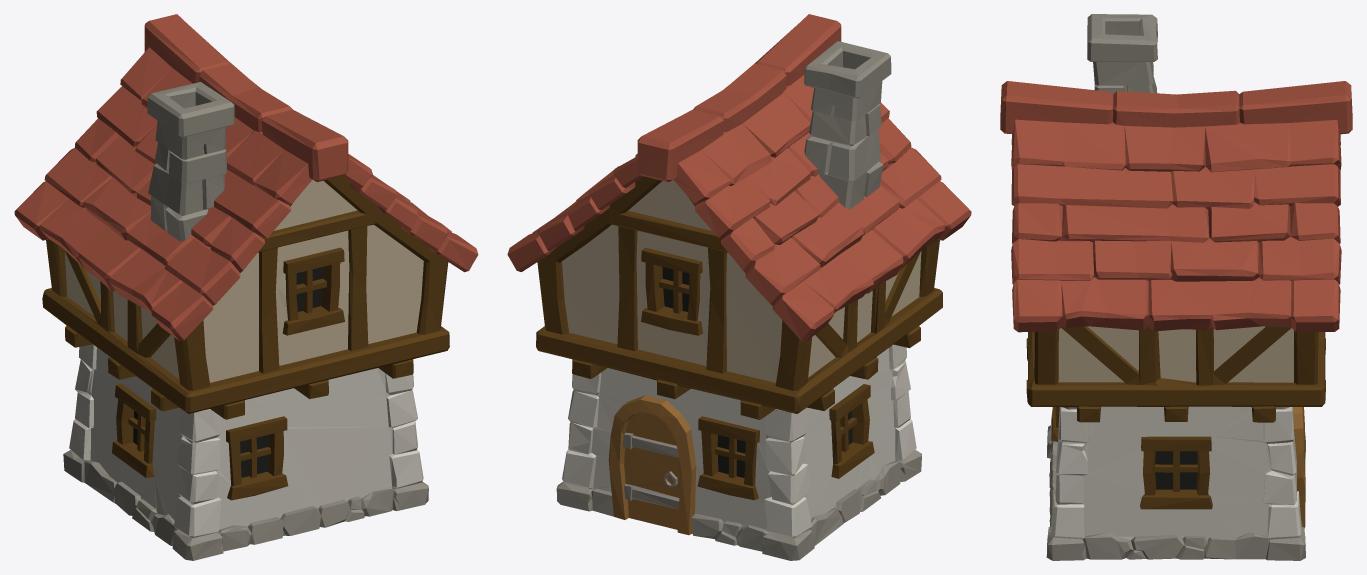
File: TwoStoryMedievalHouse_2.fbx
3 renders of one model, left to right at view 1: azimuth 30°, elevation 25°; view 2: azimuth 150°, elevation 25°; view 3: azimuth 270°, elevation 25°, orthographic.
Visible parts, largest first — view 1: TwoStoryMedievalHouse_2_LOD0; view 2: TwoStoryMedievalHouse_2_LOD0; view 3: TwoStoryMedievalHouse_2_LOD0.
Boxes of the visible parts, x1,y1,x2,y2 form: TwoStoryMedievalHouse_2_LOD0: [14, 14, 478, 560]; TwoStoryMedievalHouse_2_LOD0: [507, 14, 971, 560]; TwoStoryMedievalHouse_2_LOD0: [1000, 14, 1352, 560].
Size of what is drawn, in the model's own units: 6.01 by 5.89 by 8.01.
